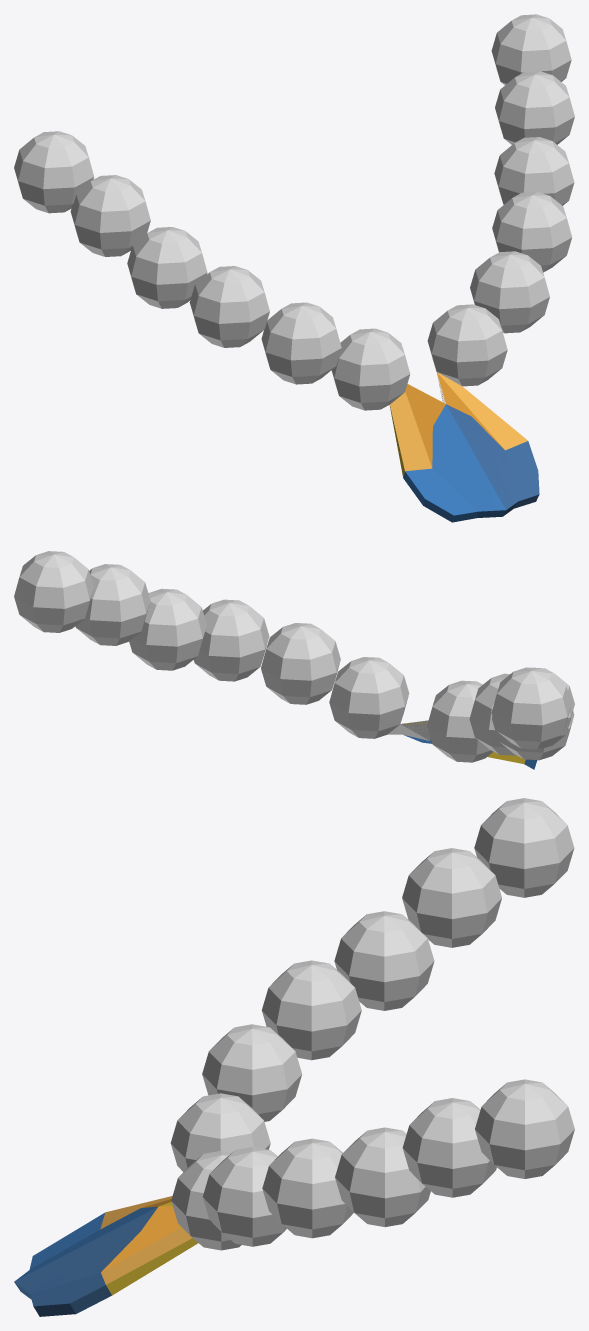
File: Prop.Necklace_11.fbx
3 views of the same model, one above another, from view 1: azimuth 30°, elevation 25°; view 2: azimuth 150°, elevation 25°; view 3: azimuth 270°, elevation 25° (orthographic). The views are drawn at different scales.
Visible parts, largest first — view 1: Prop_Necklace_11; view 2: Prop_Necklace_11; view 3: Prop_Necklace_11.
Part boxes in pixels (left/top/right/bottom): Prop_Necklace_11: left=14, top=14, right=574, bottom=522; Prop_Necklace_11: left=14, top=551, right=574, bottom=769; Prop_Necklace_11: left=14, top=798, right=574, bottom=1316.
Size of the model in its own units: 18.36 by 9.24 by 13.44.
